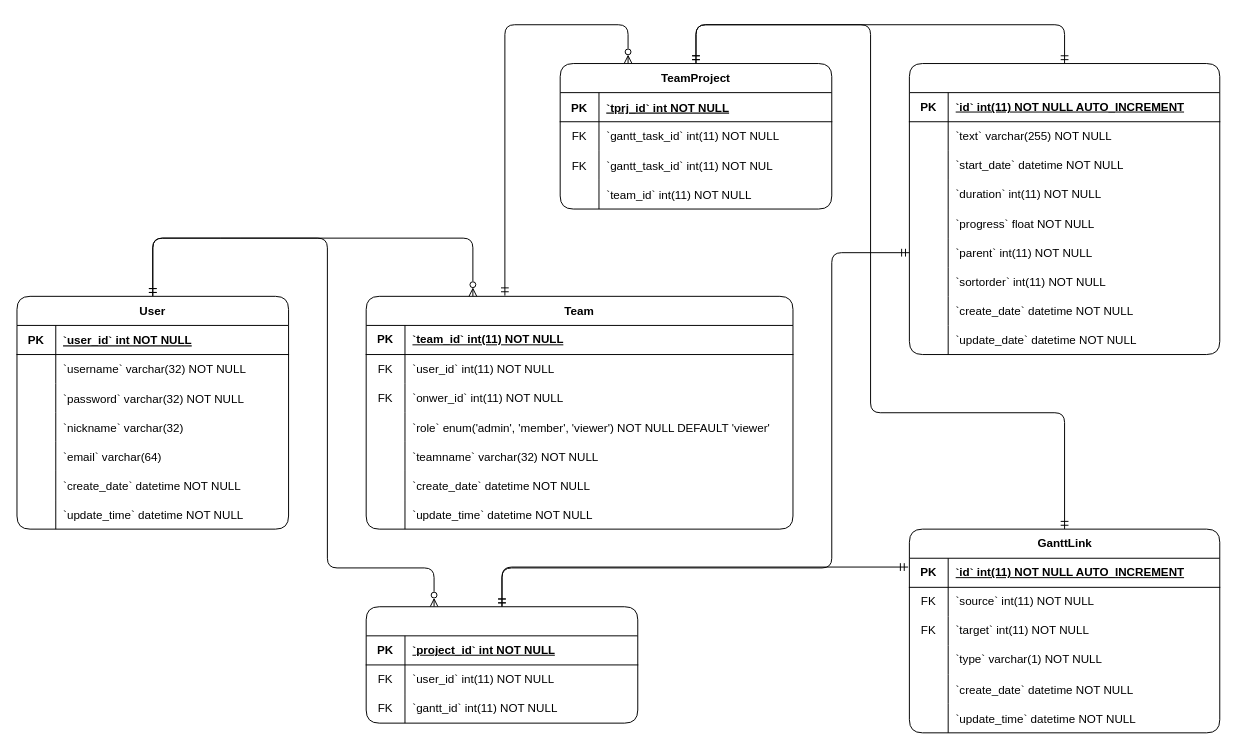
Image size: 1237x750. Some labels were removed from this diagram. Each missing label, with the box of its shape:
GanttTask: (908, 63, 1220, 355)
UserProject: (365, 606, 638, 723)
